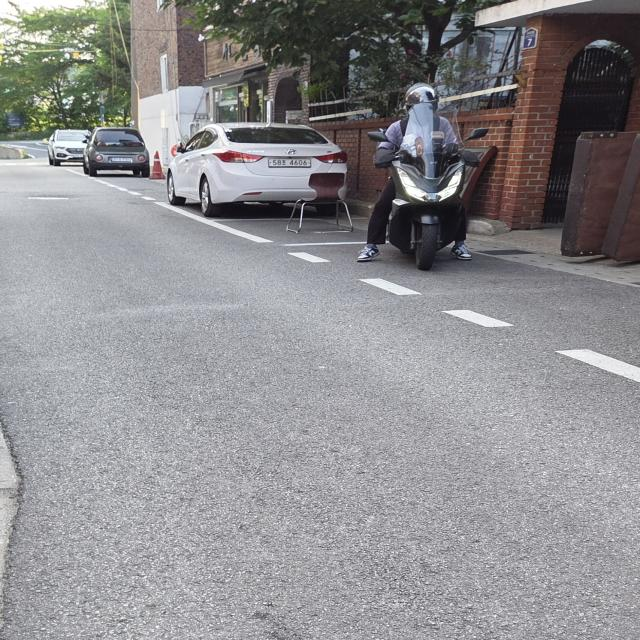car: (166, 121, 347, 217), (81, 126, 151, 176), (42, 128, 90, 166)
motorcycle: (335, 82, 511, 277)
